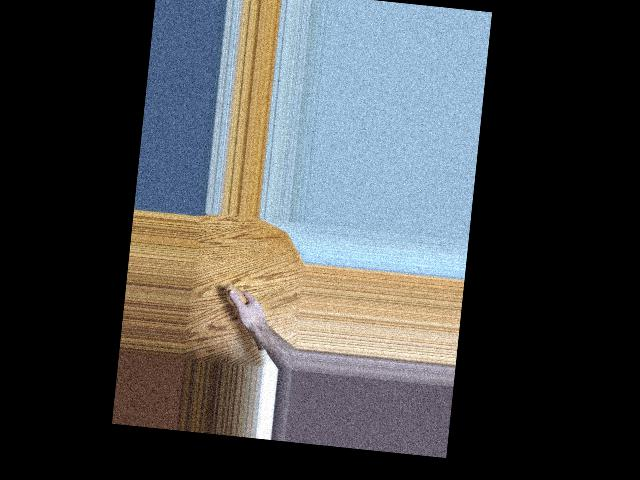sweet_potato: (219, 283, 271, 352)
